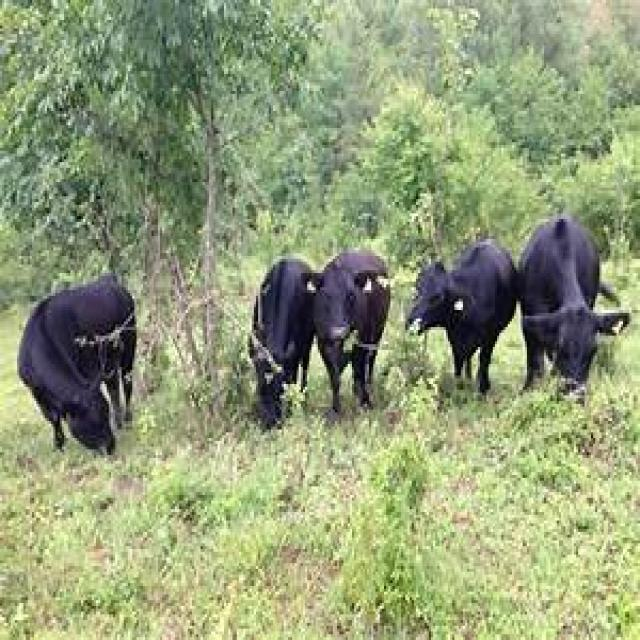cow: (15, 276, 137, 458), (407, 239, 533, 395), (516, 216, 629, 387), (311, 250, 393, 415), (250, 259, 320, 430)
